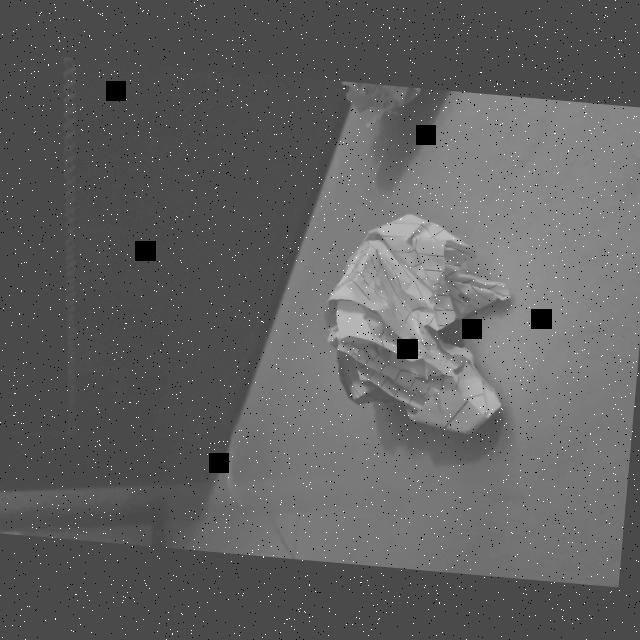scrap_paper: (323, 210, 508, 429)
